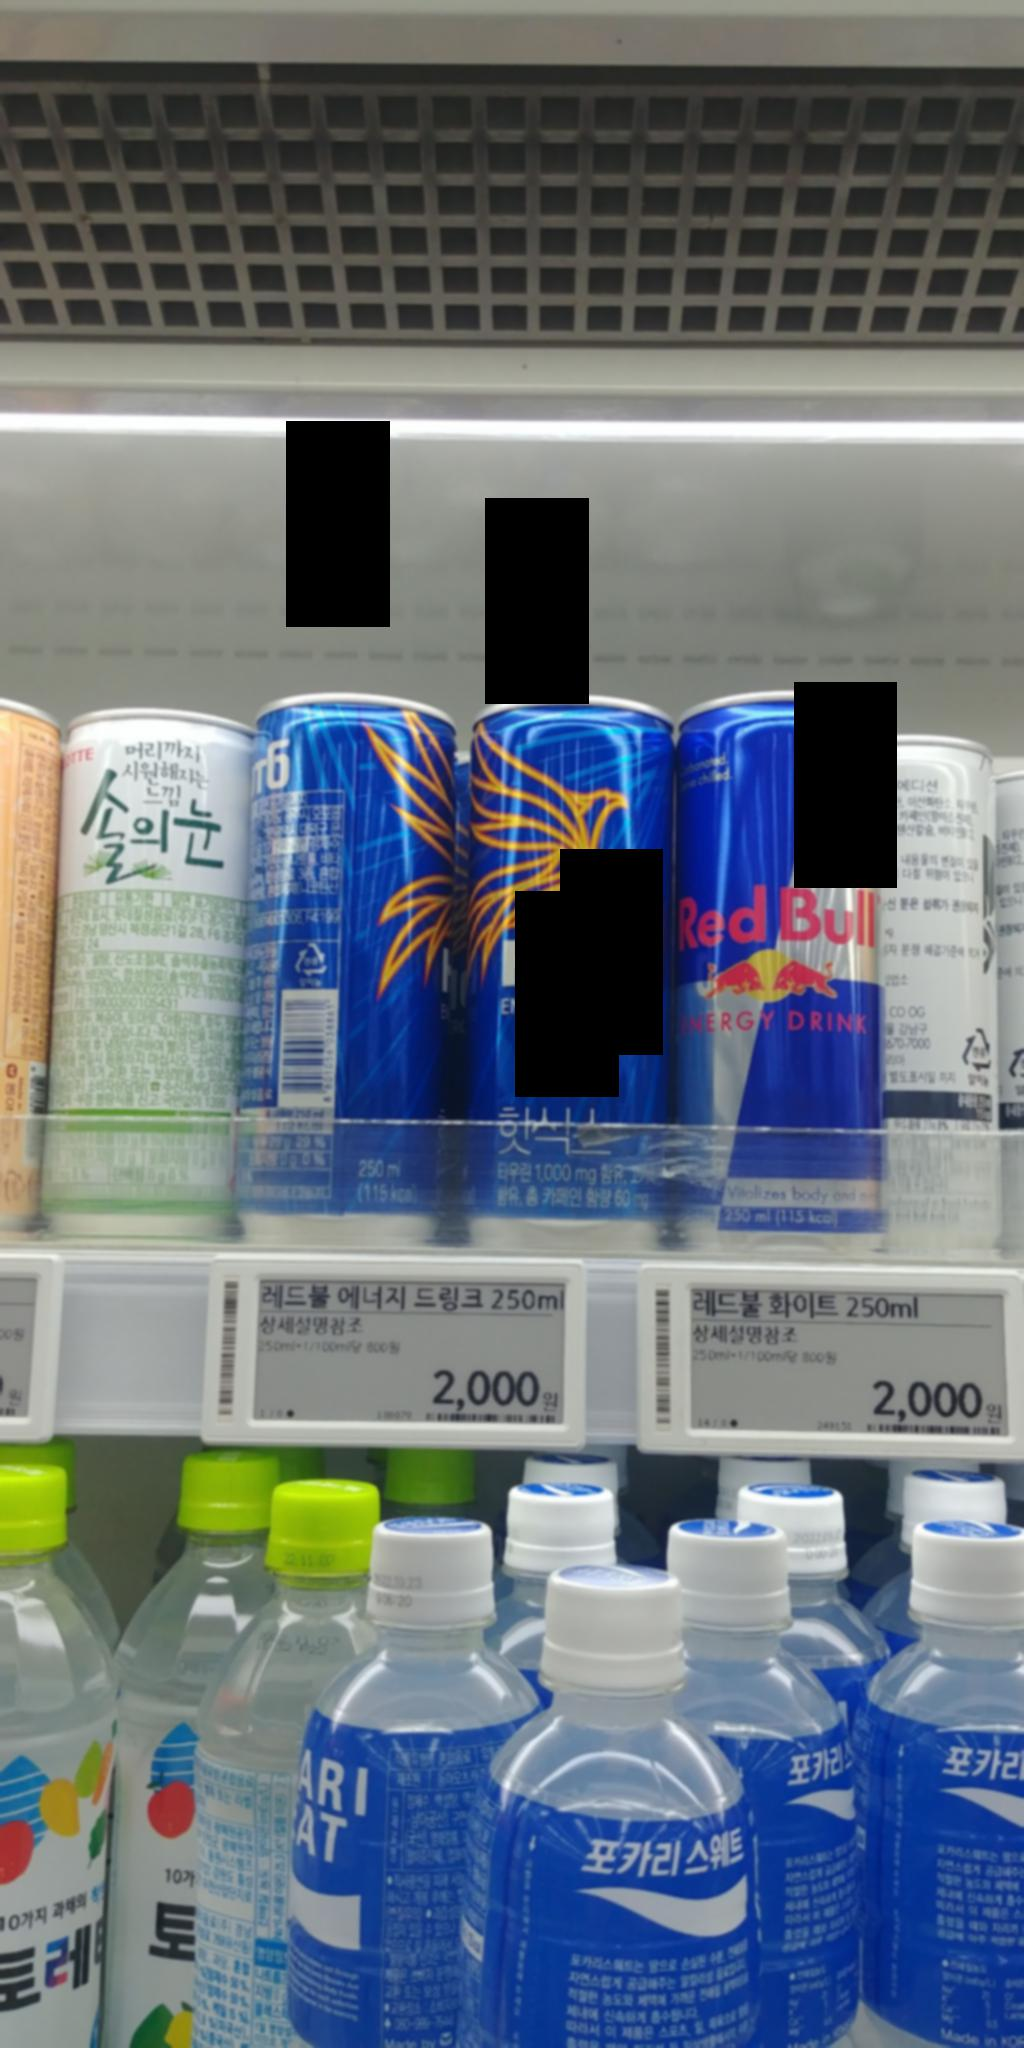hotsix_org: (230, 692, 465, 1240), (451, 684, 679, 1242)
pocarisweat: (277, 1512, 562, 2047), (483, 1550, 755, 2048)
